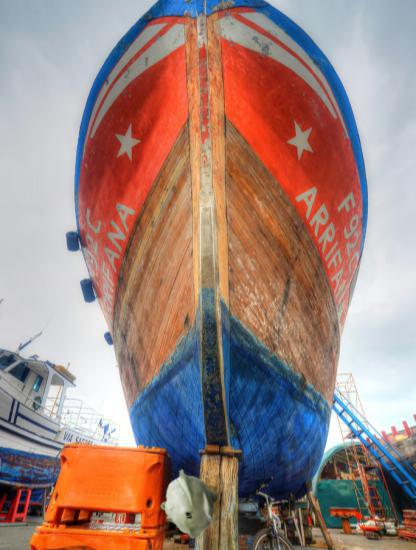Kohlrabi: (153, 467, 226, 540)
